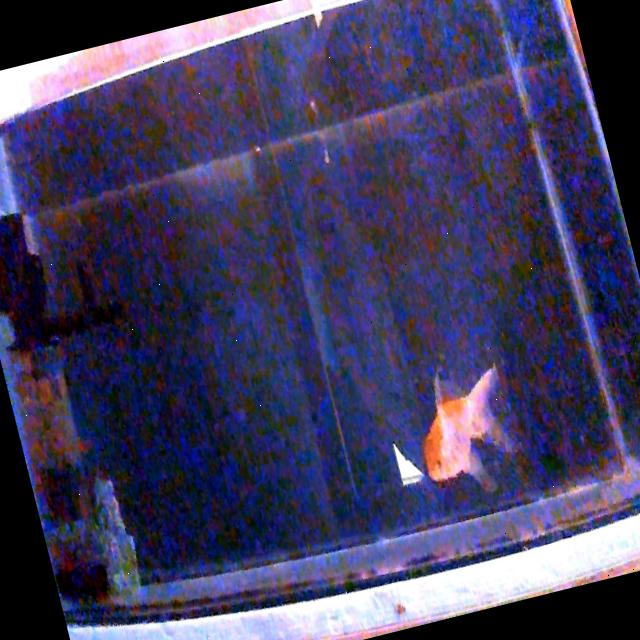fish: (398, 357, 526, 494)
